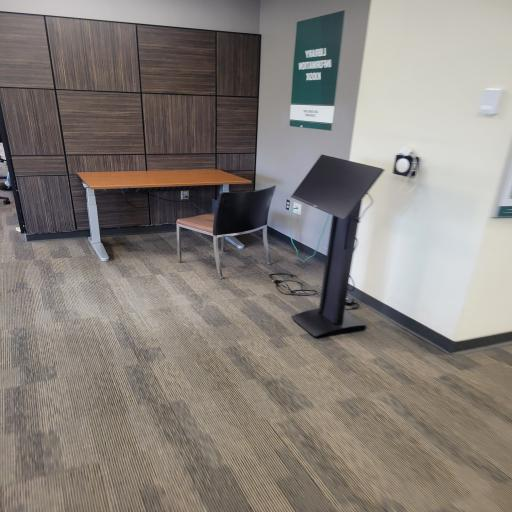chair: (164, 182, 282, 286)
poster: (285, 14, 347, 130)
table: (75, 155, 246, 263)
